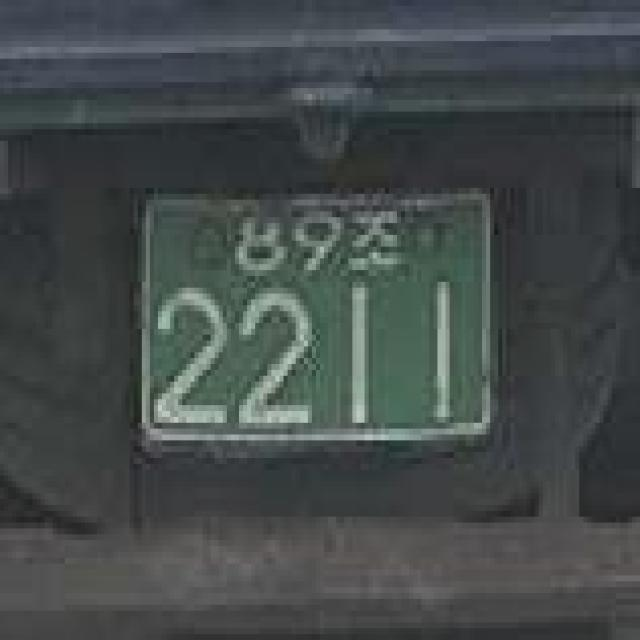illegal_plate: (121, 176, 516, 480)
